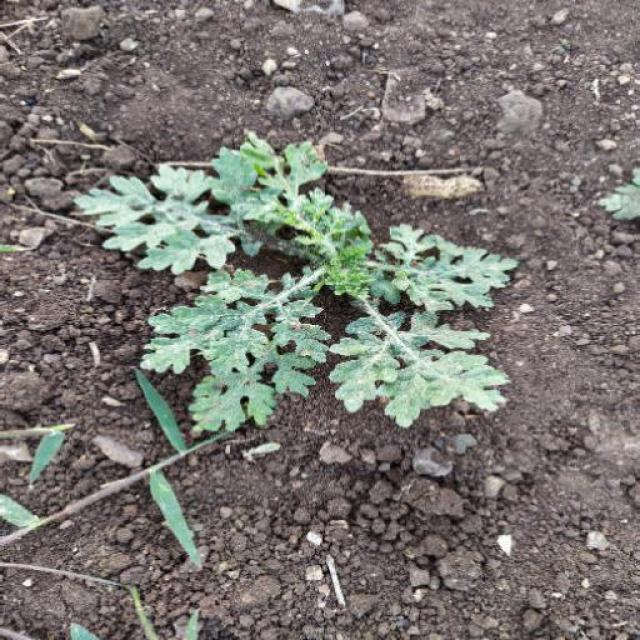weed: (80, 144, 518, 432)
